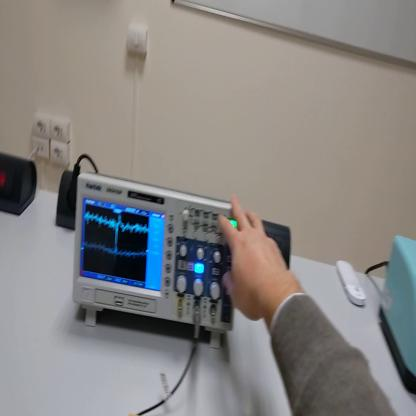hand: (219, 196, 289, 325)
oscilloscope: (71, 178, 234, 350)
socket: (1, 151, 38, 219), (57, 169, 78, 228)
welder station: (378, 240, 414, 393)
